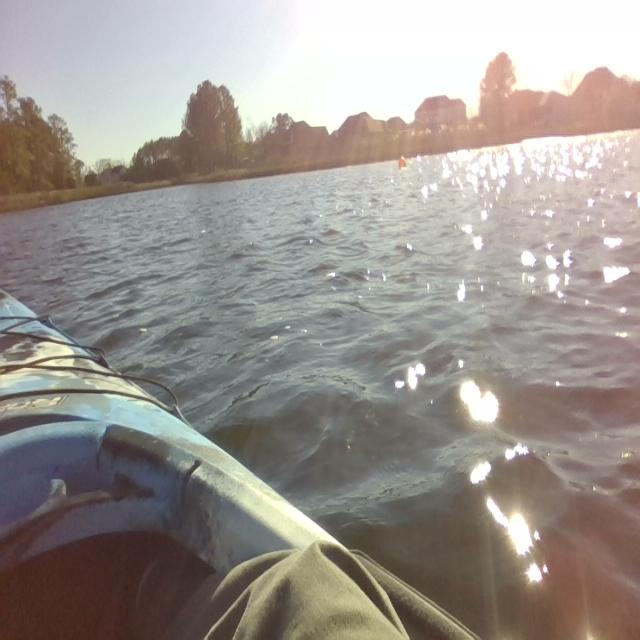Buoy: (396, 150, 412, 177)
